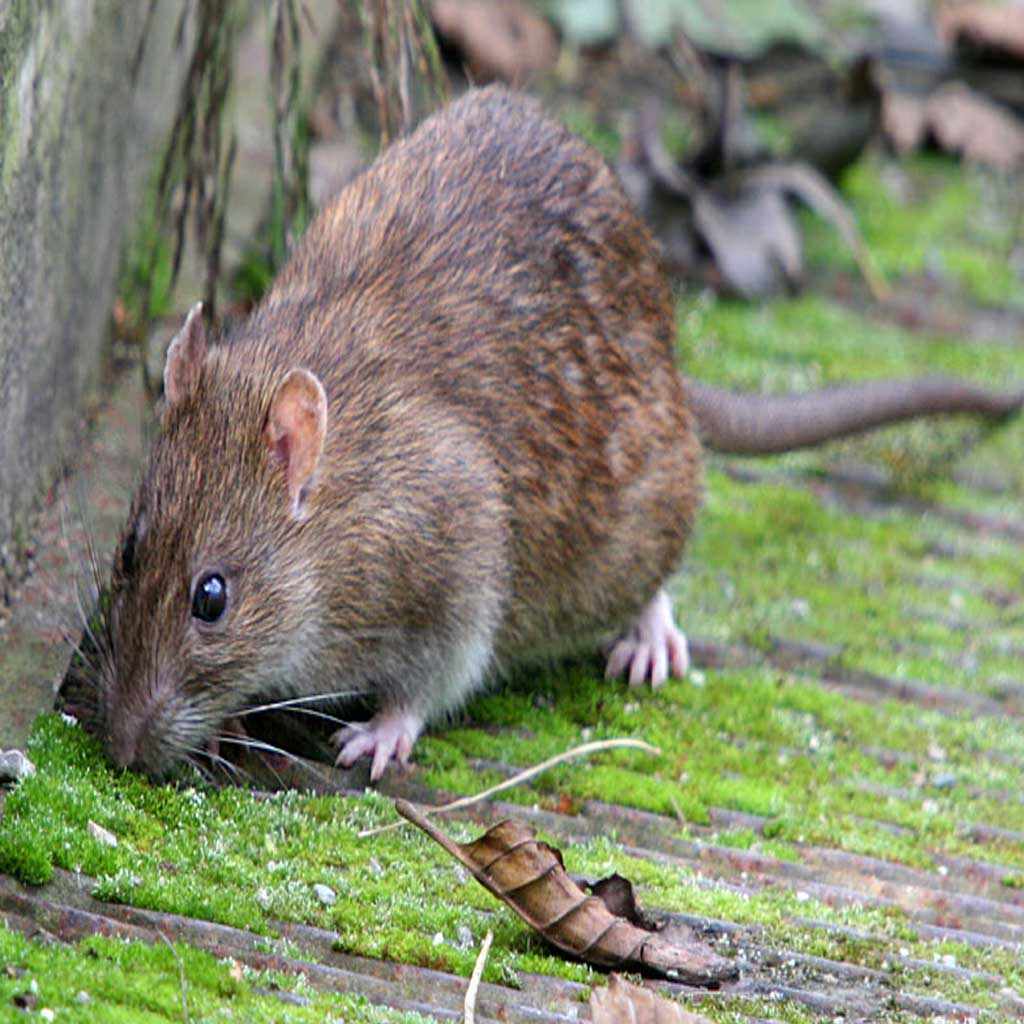rat: (57, 63, 841, 796)
